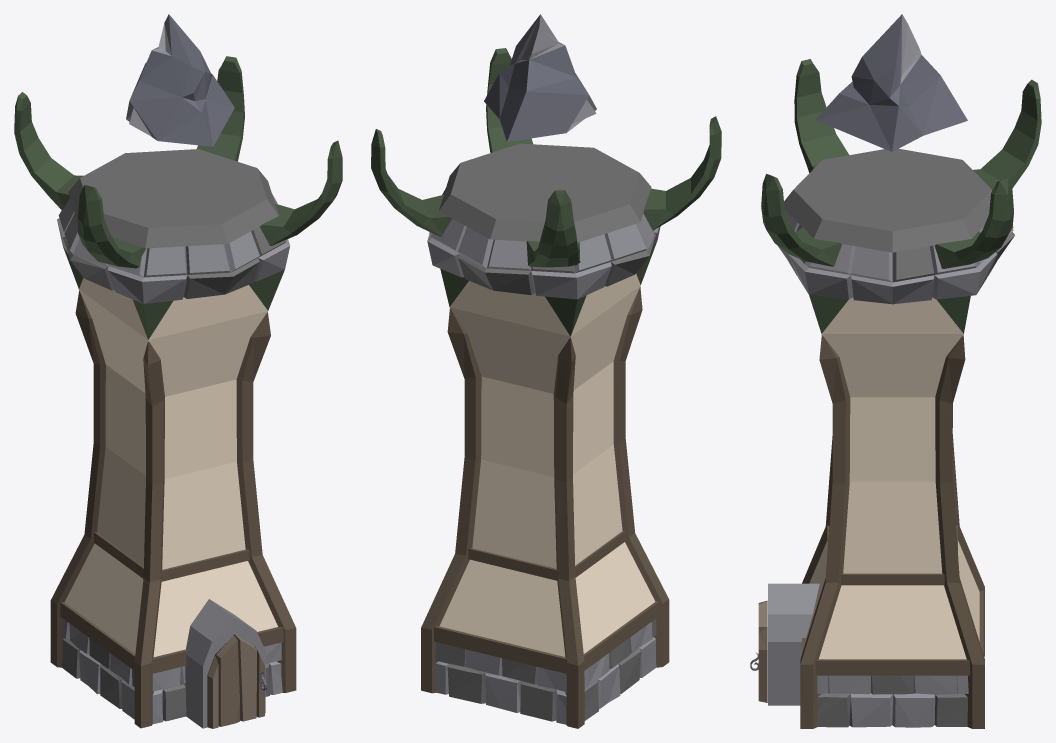
File: Poison Tower 1.obj
3 renders of one model, left to right at view 1: azimuth 30°, elevation 25°; view 2: azimuth 150°, elevation 25°; view 3: azimuth 270°, elevation 25°, orthographic. The views are drawn at different scales.
Visible parts, largest first — view 1: Poison_tower_LVL_1; view 2: Poison_tower_LVL_1; view 3: Poison_tower_LVL_1.
Boxes of the visible parts, bbox=[...] form: Poison_tower_LVL_1: bbox=[14, 14, 342, 728]; Poison_tower_LVL_1: bbox=[371, 14, 721, 728]; Poison_tower_LVL_1: bbox=[750, 14, 1041, 728].
Size of the model in its own units: 6.1 by 15.29 by 5.97.
Materials: 1 (1 with a texture image).
